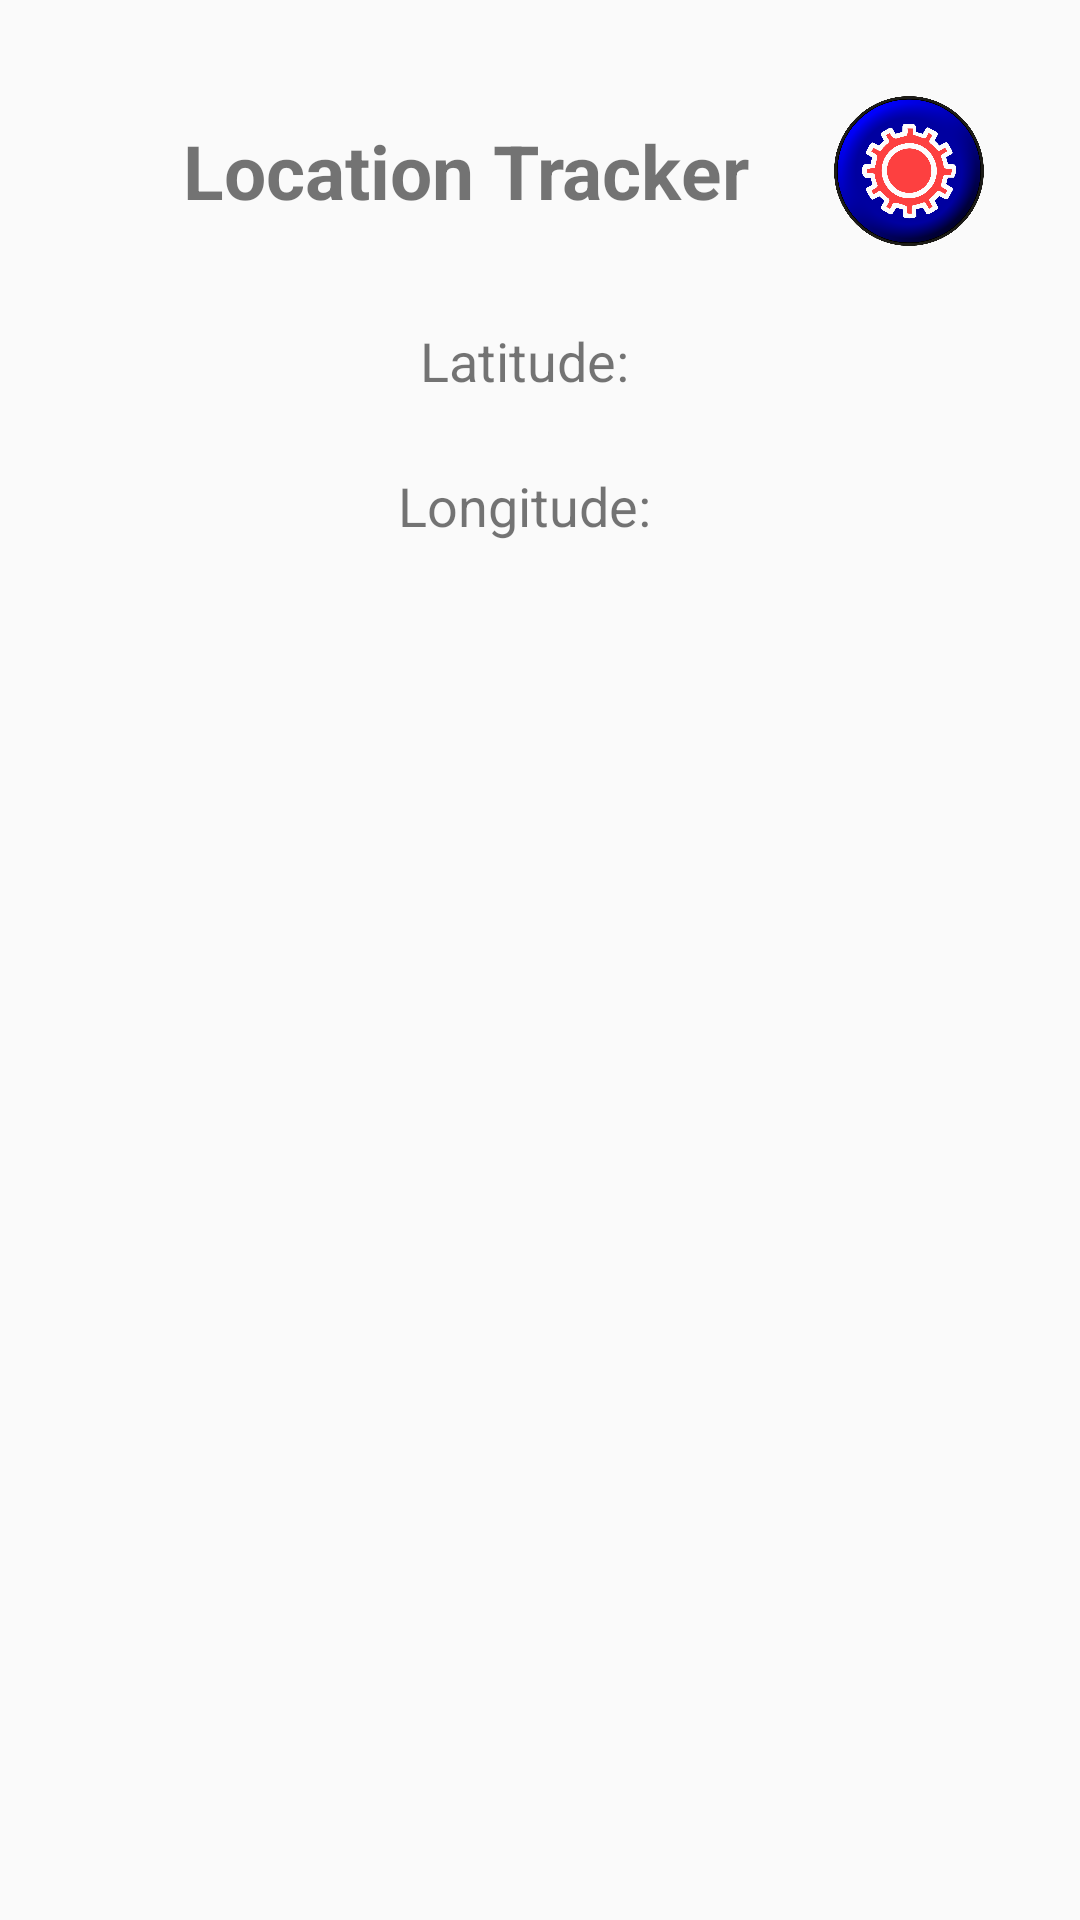

Where to tap for icons on this 1080 x 1920 app screen, as point (x, y):
ble setting: point (909, 171)
